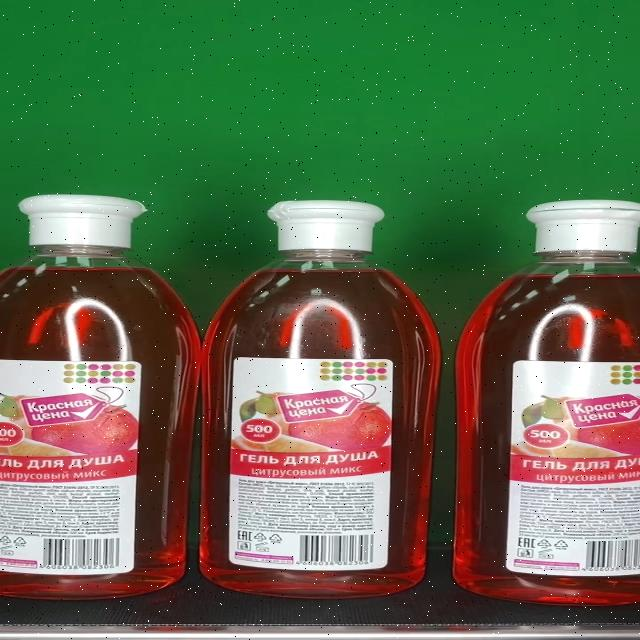Bottle: (200, 200, 443, 599), (0, 194, 200, 601)
Cap: (19, 194, 148, 247), (267, 200, 384, 250)
